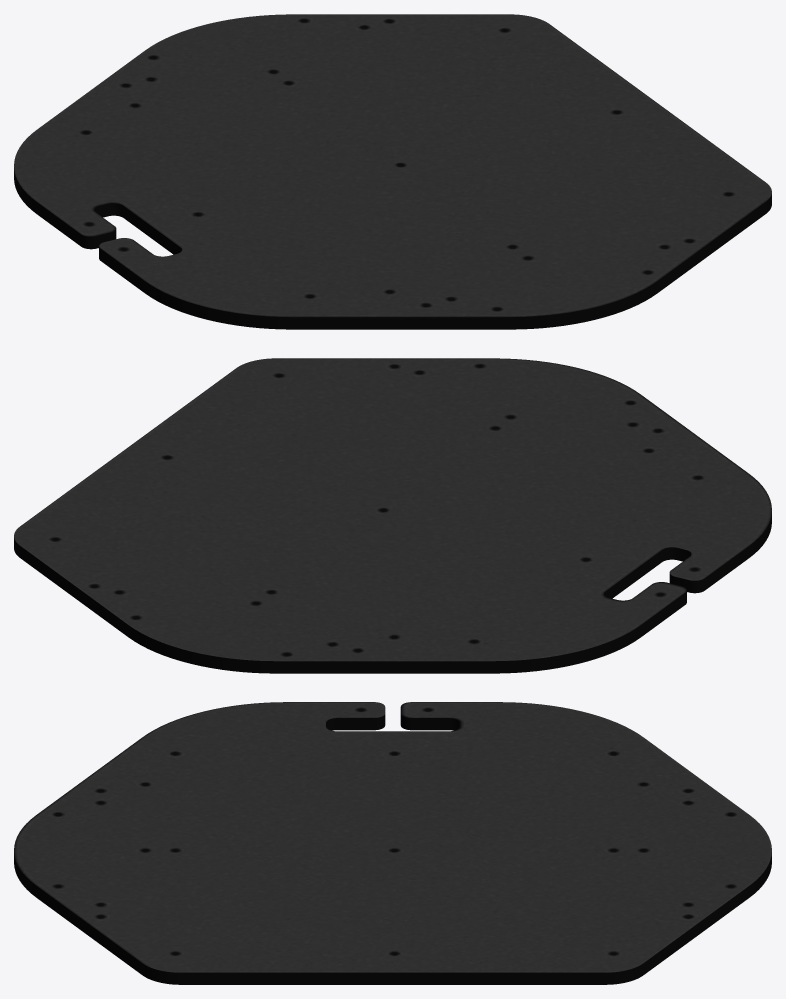
File: plate_middle.dae
The picture shows the model from 3 angles, top to bottom: view 1: azimuth 30°, elevation 25°; view 2: azimuth 150°, elevation 25°; view 3: azimuth 270°, elevation 25°; orthographic projection. The views are drawn at different scales.
Visible parts, largest first — view 1: _f_stack; view 2: _f_stack; view 3: _f_stack.
Boxes of the visible parts, <box> form: _f_stack: <box>14,14,771,329</box>; _f_stack: <box>14,358,771,673</box>; _f_stack: <box>14,702,771,984</box>.
Size of the model in its own units: 0.2873 by 0.34 by 0.006.
Materials: 1 (1 with a texture image).
